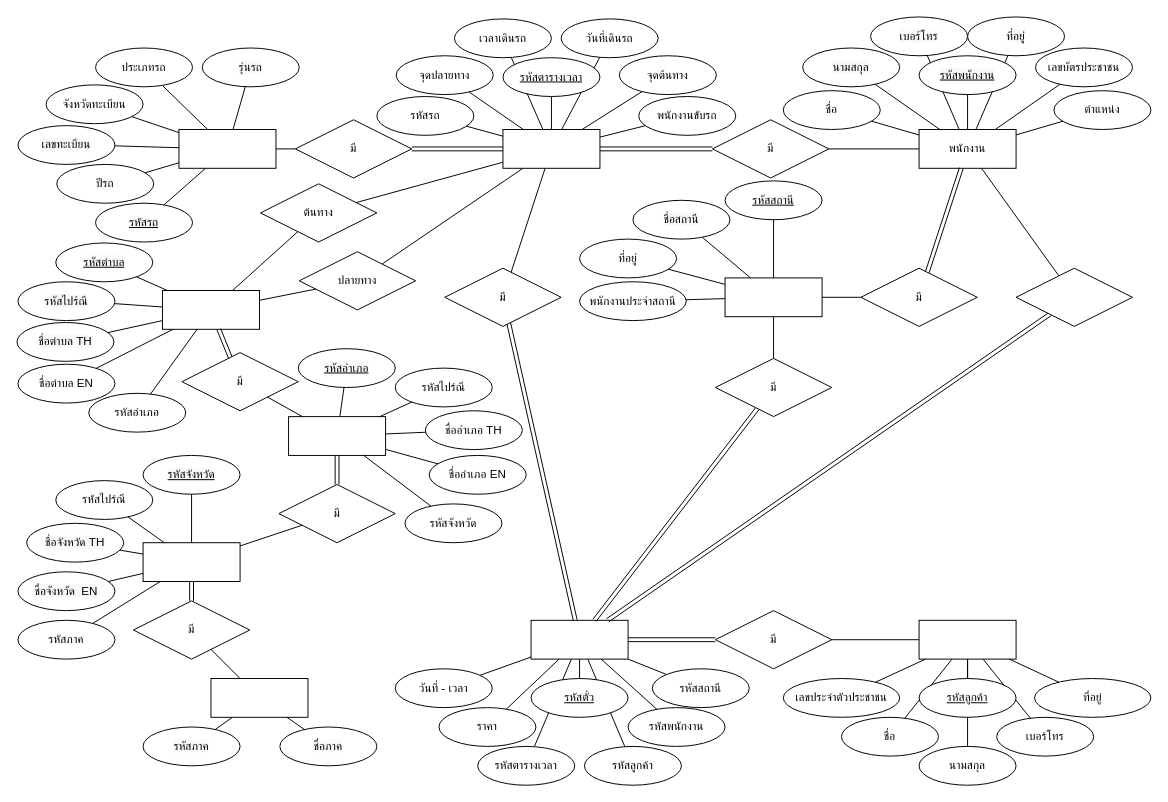
Image size: 1168x802. Some labels were removed from this diagram. The shapes that lost their labels are listed below. From the top down, each one's centre as x and y in pixels, then its label:
At pixel 227 148: "รถ".
At pixel 551 148: "ตารางเวลา".
At pixel 210 309: "ตำบล".
At pixel 773 297: "สถานี".
At pixel 1073 296: "ออก".
At pixel 337 435: "อำเภอ".
At pixel 191 562: "จังหวัด".
At pixel 579 639: "ตั๋ว".
At pixel 967 639: "ลูกค้า".
At pixel 259 697: "ภาค".
